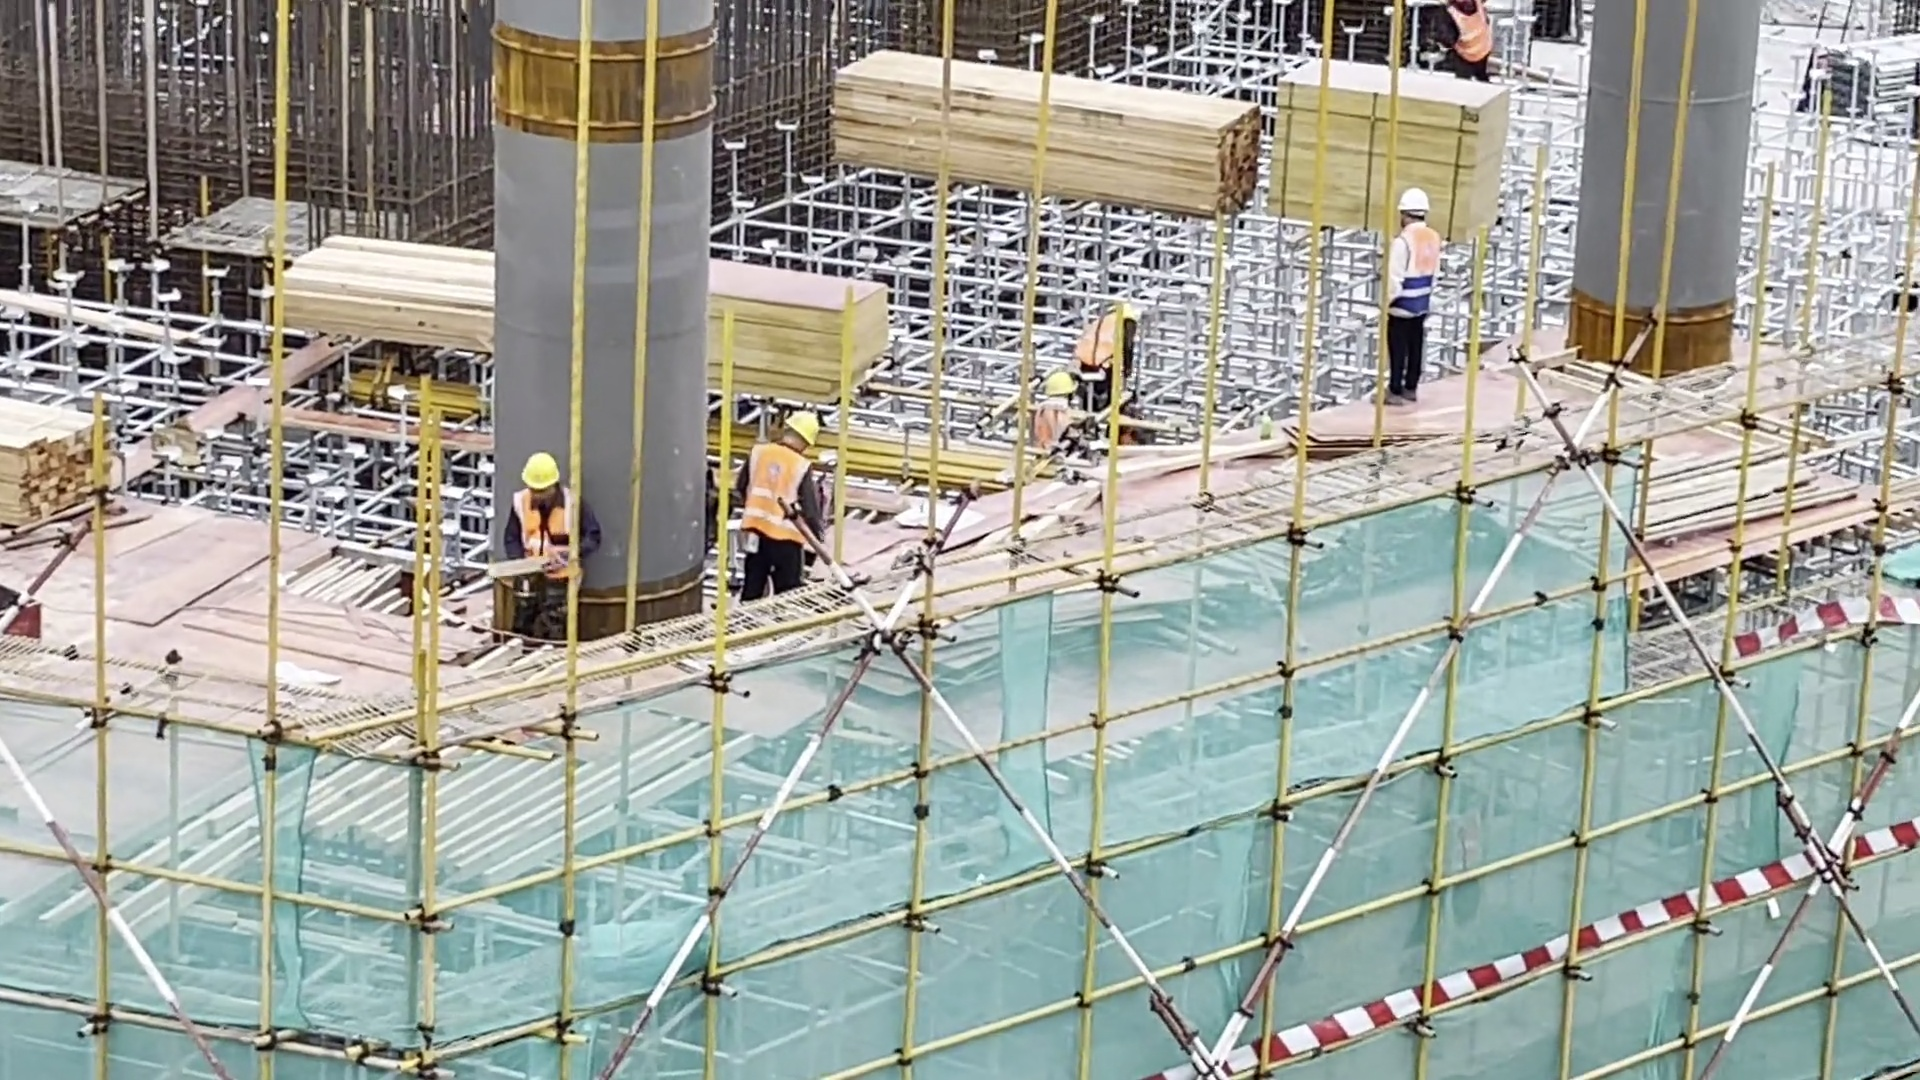helmet: (758, 400, 831, 461), (508, 448, 568, 495), (1030, 354, 1075, 403), (1398, 179, 1436, 228)
person: (488, 439, 615, 653), (739, 406, 840, 595), (1384, 176, 1440, 406), (1445, 1, 1520, 82), (1033, 372, 1089, 455), (1084, 300, 1143, 376)
scaffold: (1801, 27, 1920, 104)
vest: (742, 455, 821, 554), (1396, 238, 1451, 312), (514, 502, 585, 551), (1445, 1, 1501, 61), (1084, 313, 1130, 356), (1038, 406, 1074, 436)
wood: (834, 43, 1256, 221), (1, 394, 110, 516)
